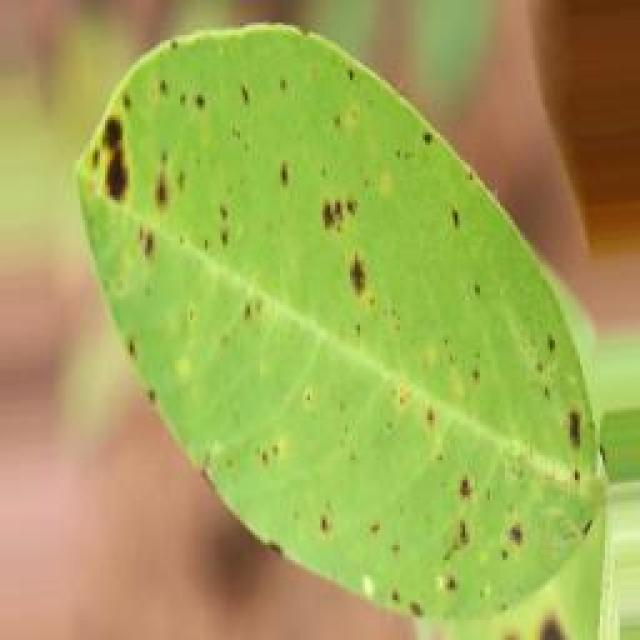Yellowish: (16, 13, 598, 627)
